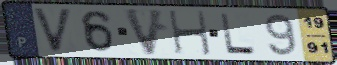6: (79, 9, 116, 54)
9: (261, 12, 300, 57)
H: (166, 9, 214, 57)
L: (218, 12, 260, 56)
V: (121, 7, 167, 57), (30, 6, 74, 55)
